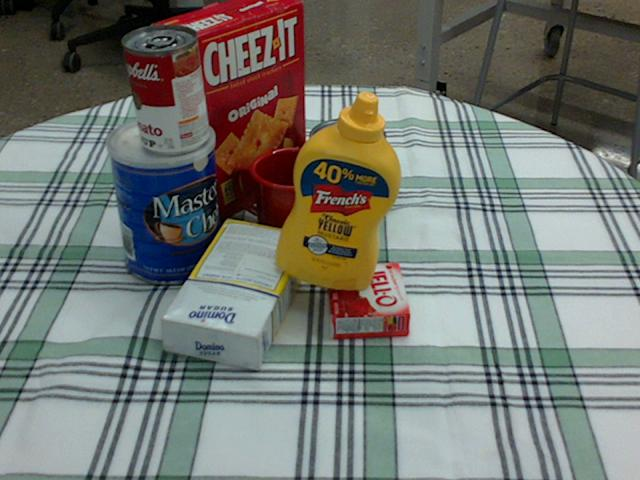cracker_box: (151, 0, 304, 223)
gelatin_box: (325, 262, 408, 338)
master_chef_can: (104, 114, 222, 285)
mug: (233, 145, 335, 248)
mustard_bottle: (275, 91, 400, 289)
potted_meat_can: (293, 133, 393, 216)
sugar_box: (161, 217, 310, 369)
tomato_soup_can: (123, 24, 208, 153)
tuna_fish_can: (308, 118, 384, 178)
